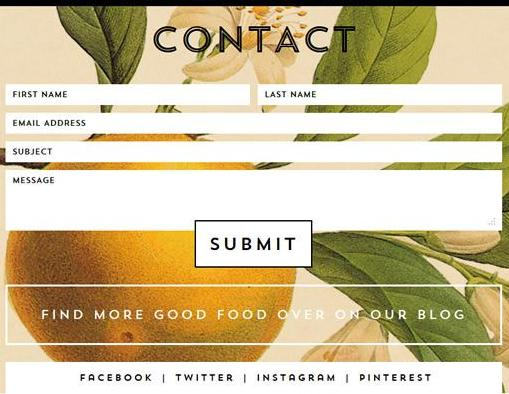button: (195, 219, 314, 268)
field: (5, 169, 503, 231), (4, 140, 503, 163), (4, 112, 504, 133), (4, 83, 252, 106), (257, 84, 503, 106)
